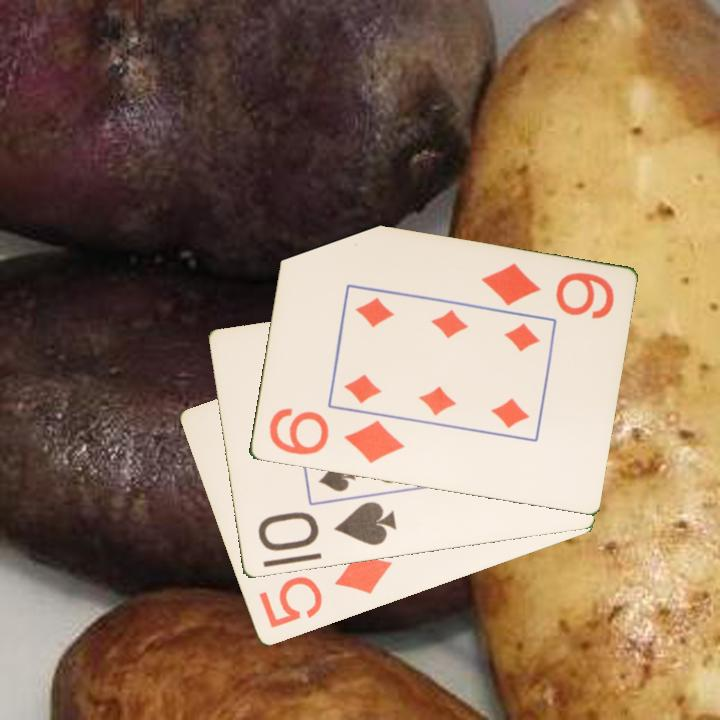10s: (254, 498, 400, 555)
5d: (255, 549, 396, 632)
6d: (265, 404, 407, 467), (477, 260, 617, 323)
